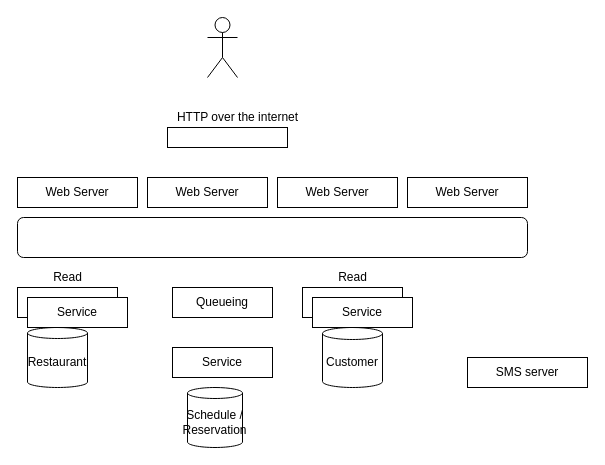
Image size: 605x465. Some labels were removed from this diagram. Each missing label, with the box of its shape:
Customer Web Browser: (206, 16, 238, 78)
Distributed Cache for Restaurant - location: (16, 216, 528, 258)
Load Balancer: (166, 126, 288, 148)
